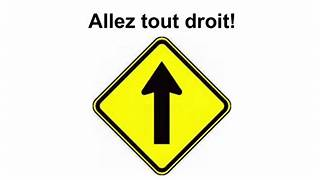forward: (92, 36, 233, 175)
